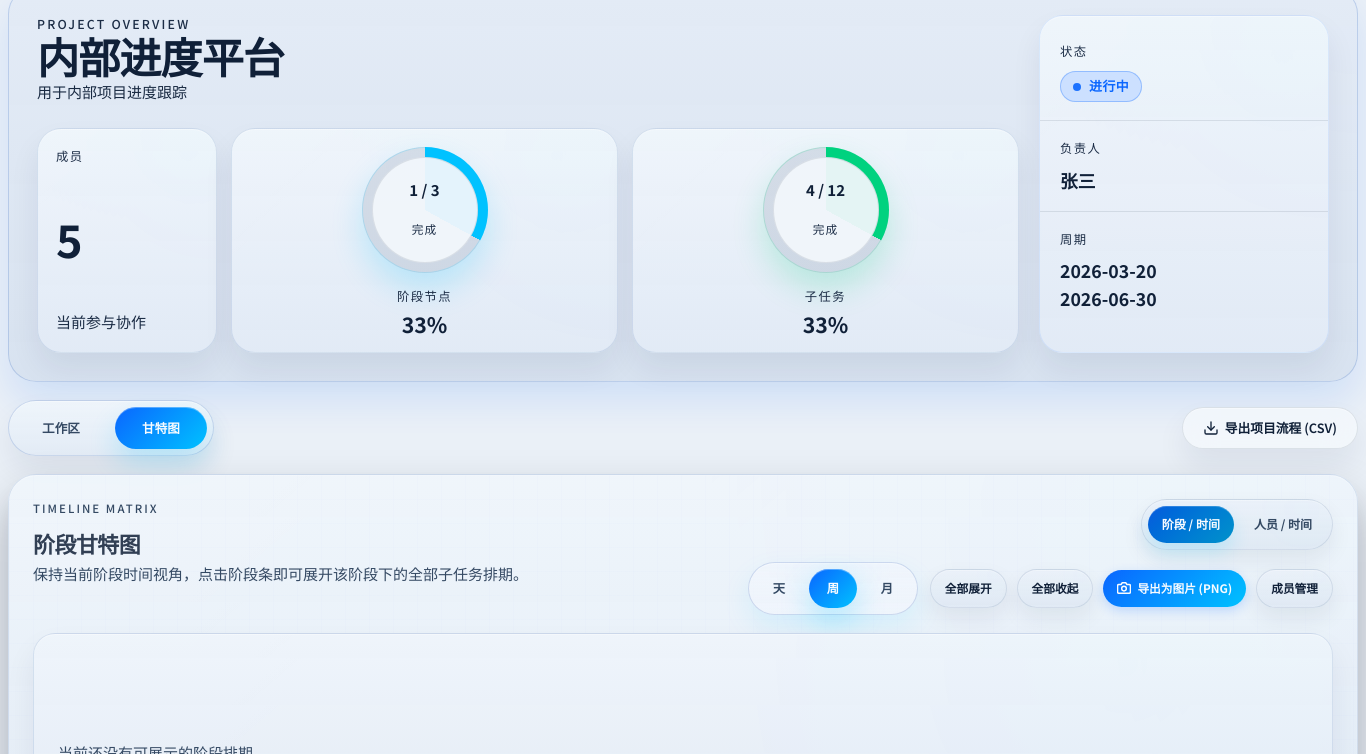
ProjectDetailView › renders one unified workspace card with fixed-height member panel and independently scrollable sections
Expected: the heading "内部进度平台" is shown, [37,25,284,86]
Click the button "工作区".
click(61, 428)  # box [15,407,107,449]
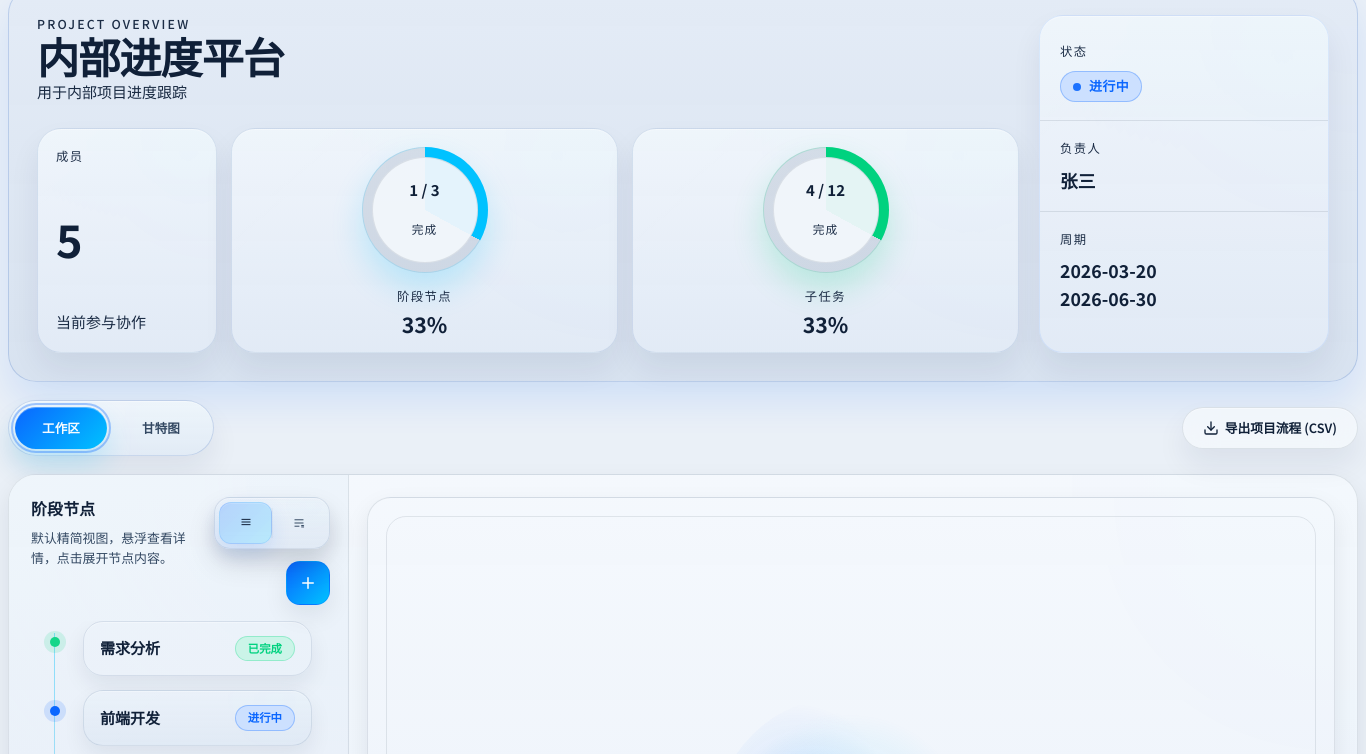
Click the button with test id "node-item-2002".
click(198, 718)  # box [83,690,312,746]
(page scrolled)
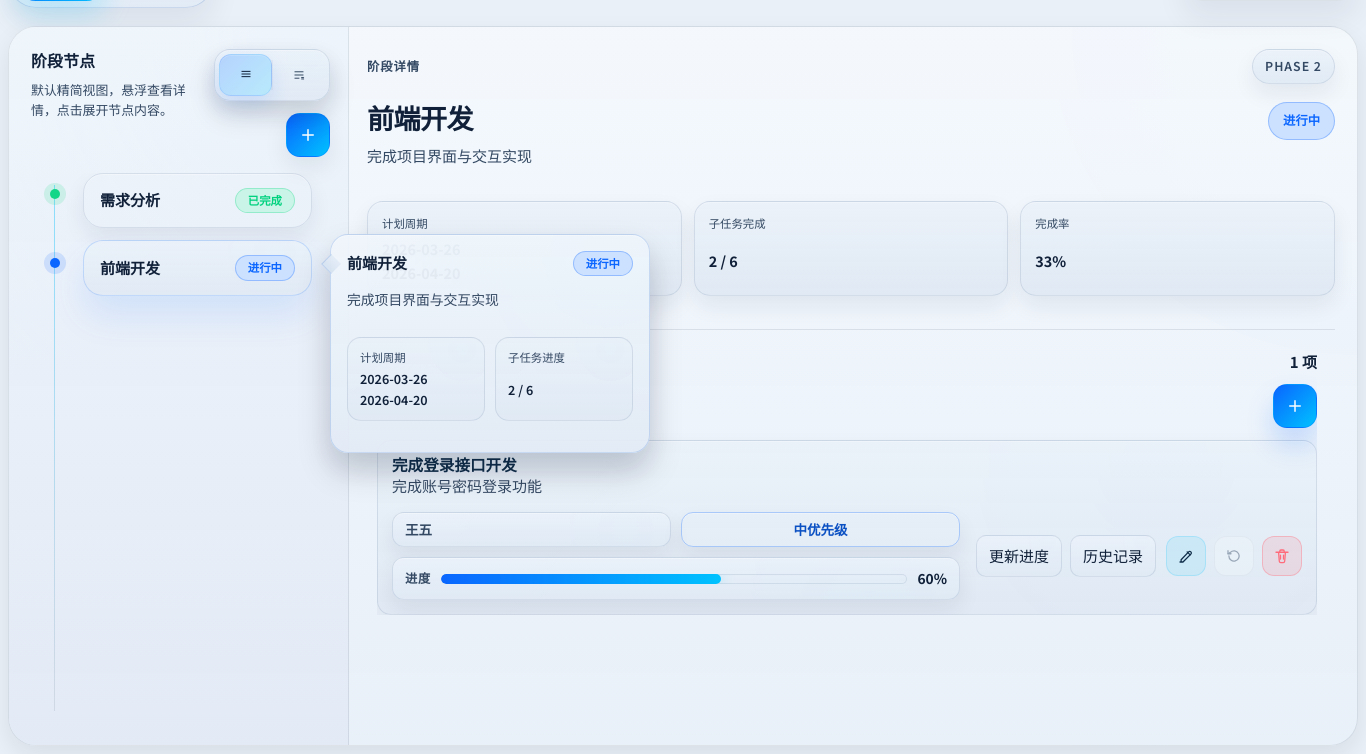
Result: the button with test id "node-item-2002" is shown at [83,240,312,296]
Result: the element with test id "node-drawer" is shown
